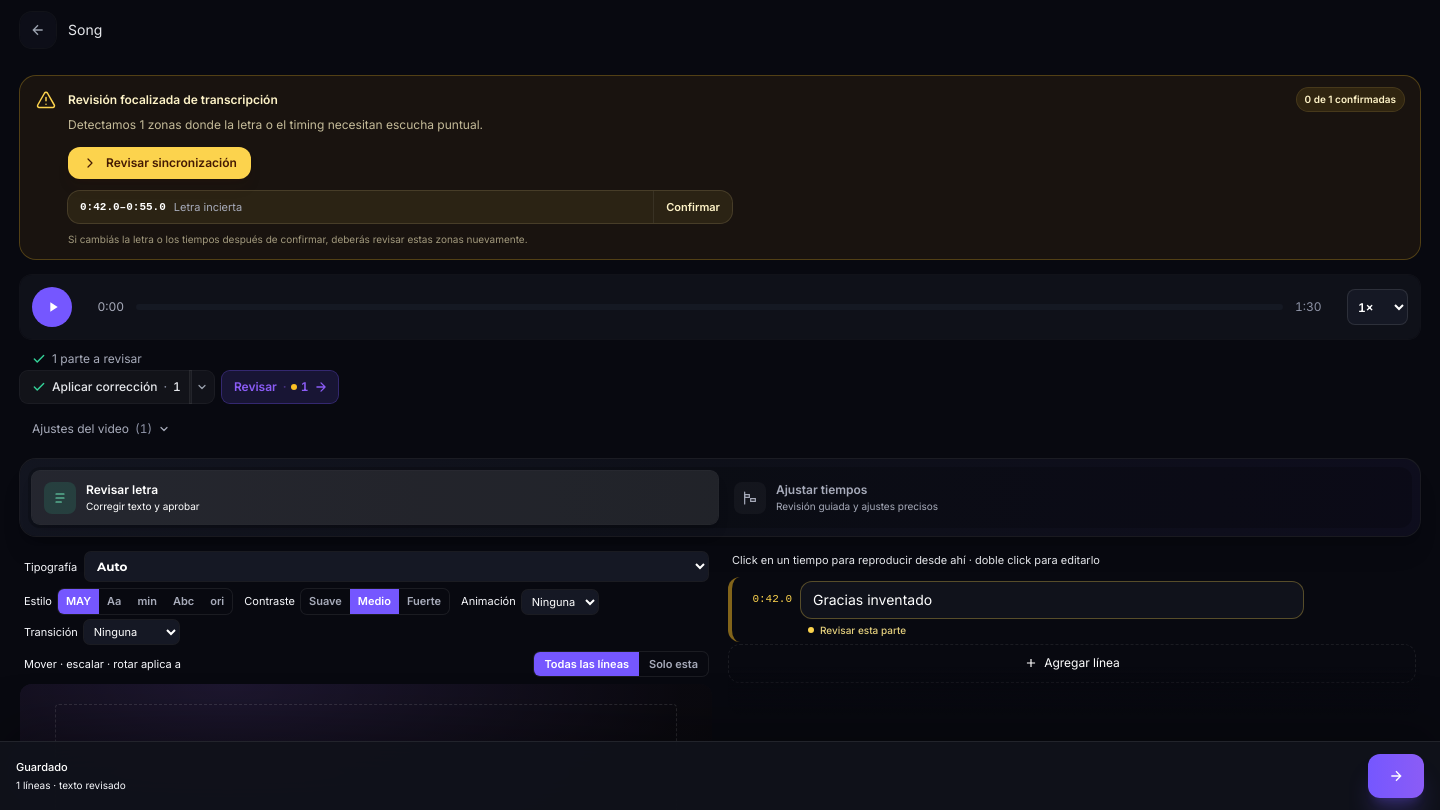
Test: LyricsEditor — revisión focalizada transcription quality v5 › distingue una candidata de baja confianza y protege el preview hasta confirmarla
Expected: the element with test id "unsafe-candidate-label-1" reads "Revisar esta parte", [820,624,906,636]
Click the button named "Reproducir desde 0:42.0" at (764, 594), box [736,581,792,607]
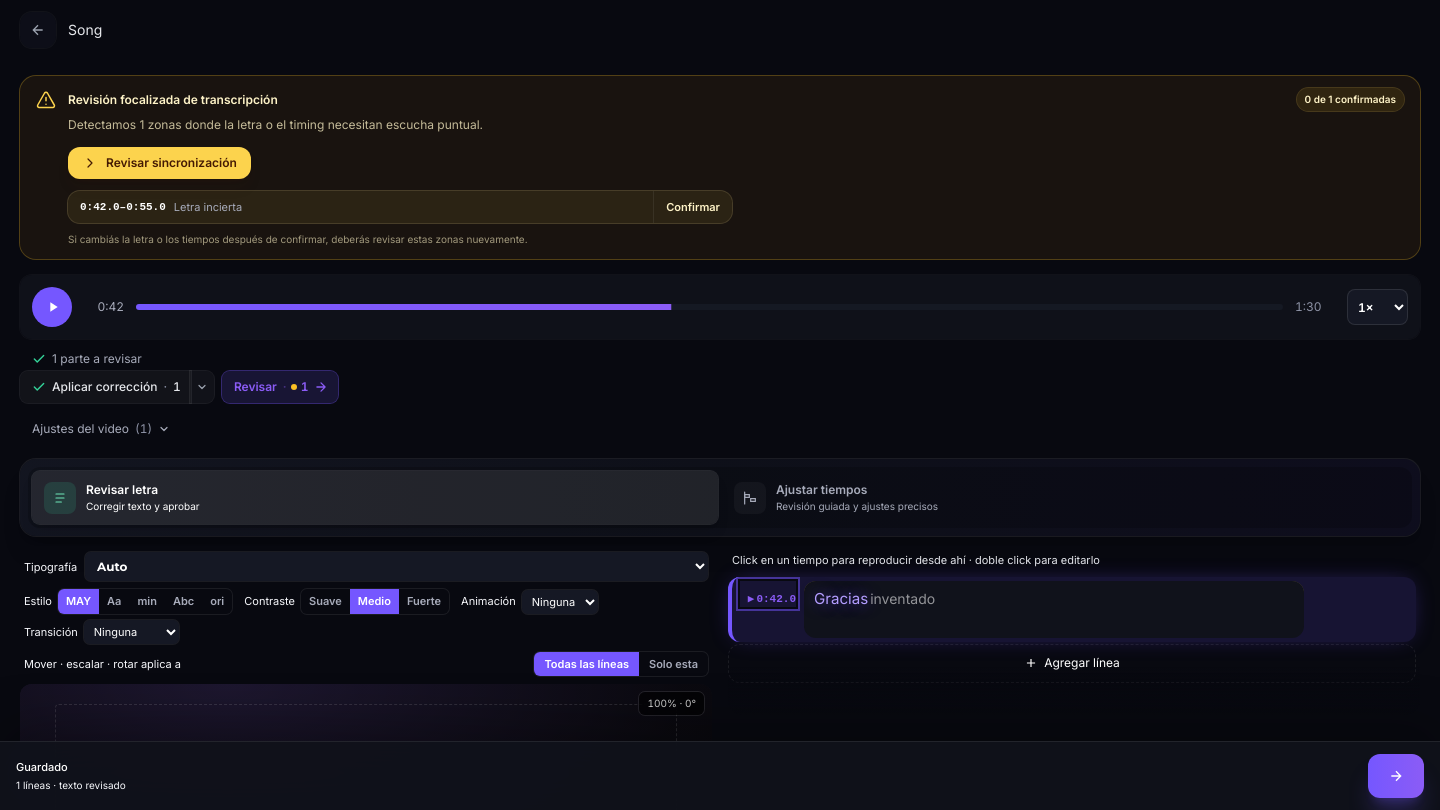
Click the button with aria-label "Confirmar zona 1" at (693, 207), box [653,190,732,223]
(page scrolled)
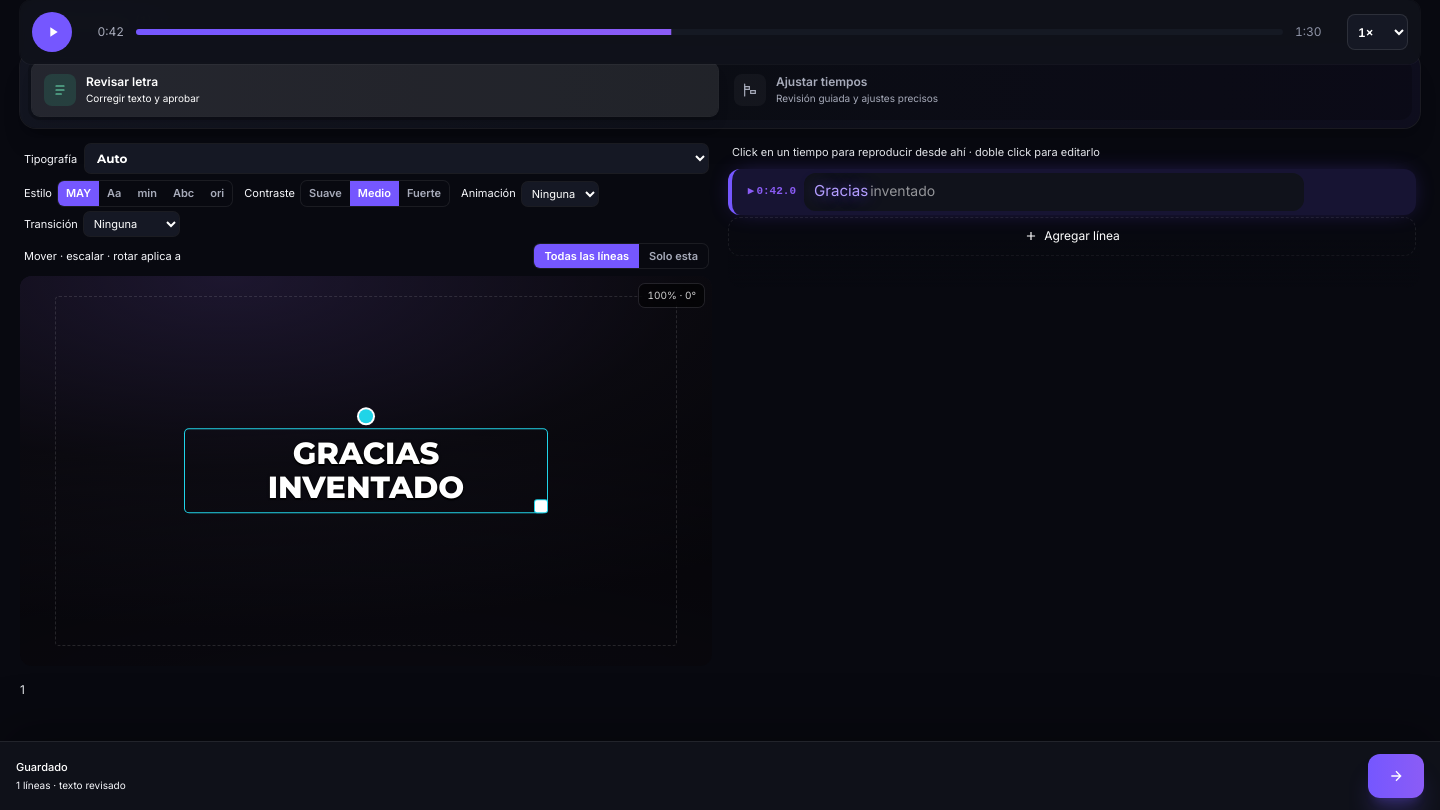
Expected: the text "GRACIAS INVENTADO" is shown, [268,434,464,506]
